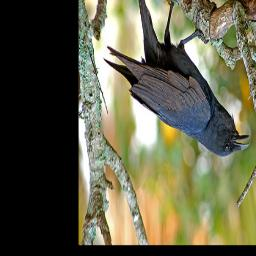Crow: (102, 0, 251, 157)
